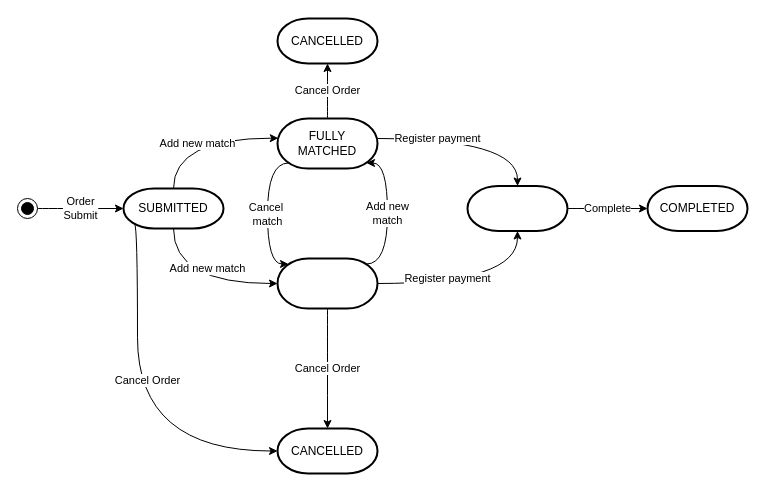
The diagram is 766 pixels wide and 491 high, and some of its shapes have lost their labels. Each missing label, with the centre of its shape:
"PAID" belongs at pixel 517 208.
"PARTIALLY MATCHED" belongs at pixel 327 283.
